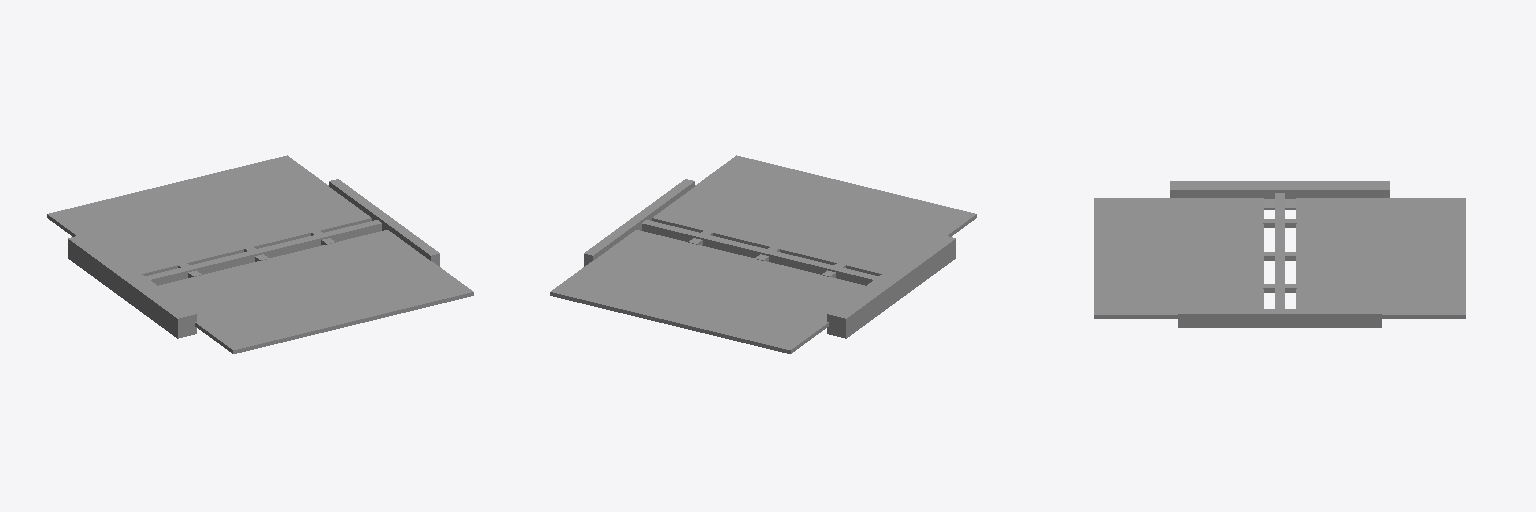
Rendered from Large_Blanket_panel.obj.
3 renders of one model, left to right at view 1: azimuth 30°, elevation 25°; view 2: azimuth 150°, elevation 25°; view 3: azimuth 270°, elevation 25°, orthographic.
Visible parts, largest first — view 1: Cube.001_Cube.002, Cube.002_Cube.003, Cube_Cube.001, Cube.004_Cube.005, Cube.003_Cube.004; view 2: Cube.002_Cube.003, Cube.001_Cube.002, Cube_Cube.001, Cube.004_Cube.005, Cube.003_Cube.004; view 3: Cube.002_Cube.003, Cube.001_Cube.002, Cube_Cube.001, Cube.003_Cube.004, Cube.004_Cube.005.
Boxes of the visible parts, x1=… form: Cube.001_Cube.002: x1=159, y1=230, x2=473, y2=353; Cube.002_Cube.003: x1=47, y1=155, x2=371, y2=275; Cube_Cube.001: x1=68, y1=234, x2=196, y2=338; Cube.004_Cube.005: x1=145, y1=220, x2=381, y2=285; Cube.003_Cube.004: x1=329, y1=179, x2=439, y2=266; Cube.002_Cube.003: x1=550, y1=230, x2=864, y2=353; Cube.001_Cube.002: x1=652, y1=155, x2=976, y2=275; Cube_Cube.001: x1=827, y1=234, x2=955, y2=338; Cube.004_Cube.005: x1=642, y1=220, x2=878, y2=285; Cube.003_Cube.004: x1=584, y1=179, x2=694, y2=266; Cube.002_Cube.003: x1=1296, y1=198, x2=1465, y2=318; Cube.001_Cube.002: x1=1094, y1=198, x2=1263, y2=318; Cube_Cube.001: x1=1170, y1=181, x2=1389, y2=209; Cube.003_Cube.004: x1=1178, y1=309, x2=1381, y2=327; Cube.004_Cube.005: x1=1275, y1=193, x2=1284, y2=308.
Bounding box in the file's own units: 14 × 1 × 16.95.